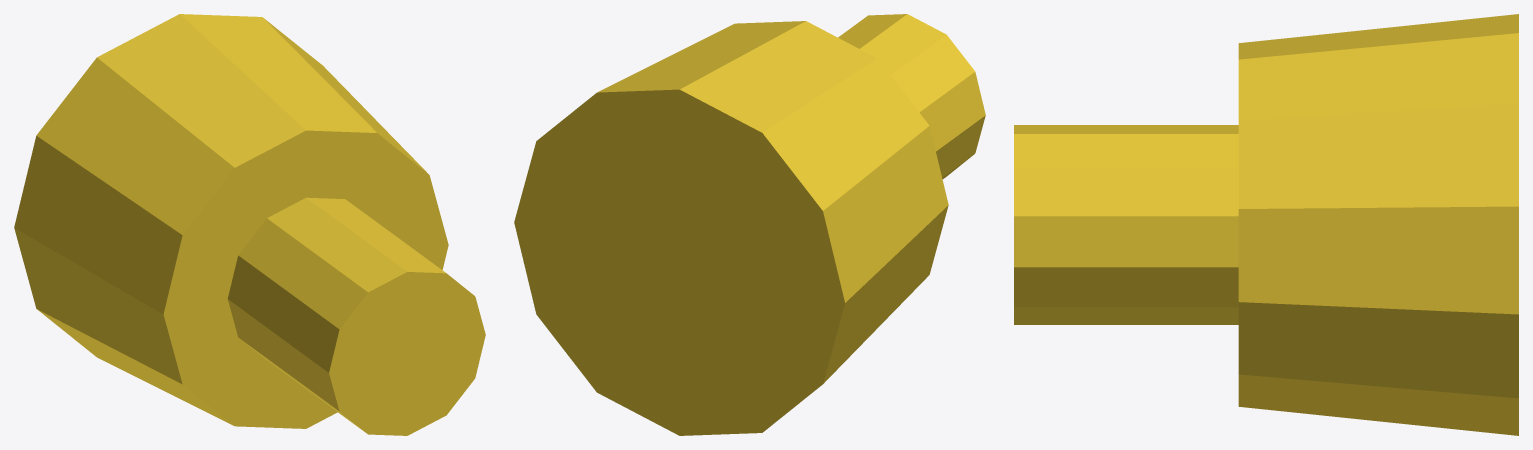
Rendered from door_knob.FBX.
3 views of the same model, side by side, from view 1: azimuth 30°, elevation 25°; view 2: azimuth 150°, elevation 25°; view 3: azimuth 270°, elevation 25° (orthographic). The views are drawn at different scales.
Parts seen in each view (by area): view 1: door_knob; view 2: door_knob; view 3: door_knob.
Part boxes in pixels (x1,y1,x2,y2): door_knob: [14, 14, 485, 435]; door_knob: [514, 14, 985, 435]; door_knob: [1014, 14, 1518, 435].
Bounding box in the file's own units: 5.34 × 5.34 × 6.36.
